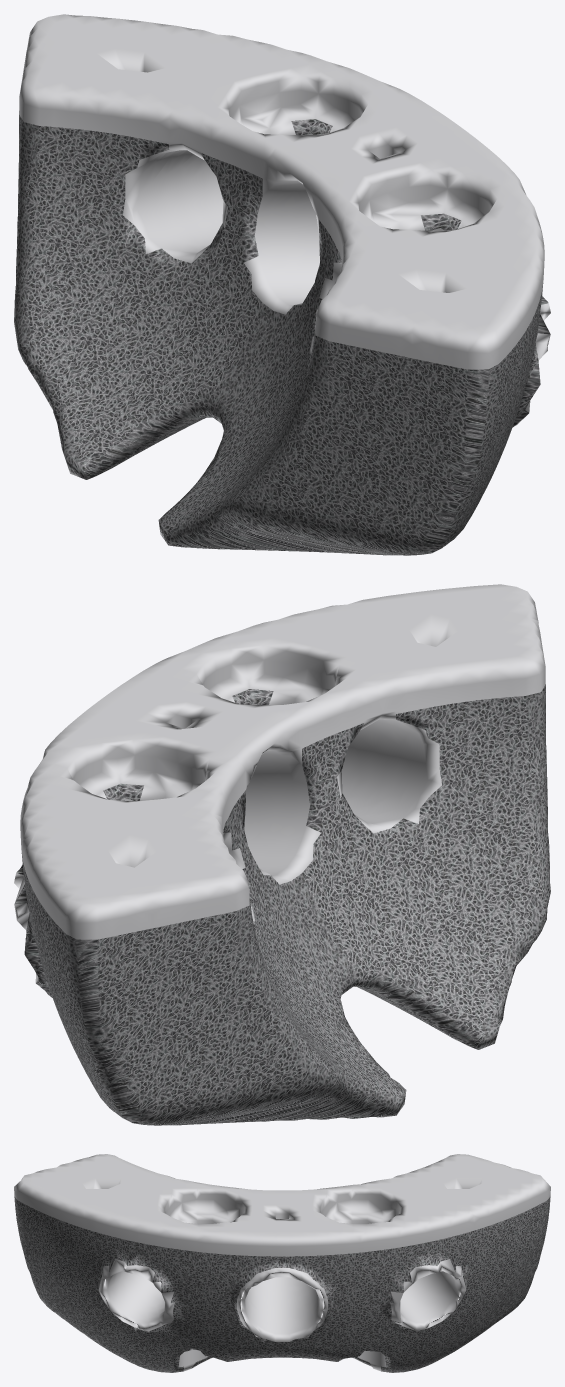
The model's file is augment-3dtf.lod1.glb.
3 renders of one model, top to bottom at view 1: azimuth 30°, elevation 25°; view 2: azimuth 150°, elevation 25°; view 3: azimuth 270°, elevation 25°, orthographic. The views are drawn at different scales.
Parts seen in each view (by area): view 1: augment; view 2: augment; view 3: augment.
Boxes of the visible parts, x1,y1,x2,y2 form: augment: [14, 14, 550, 555]; augment: [14, 584, 550, 1125]; augment: [14, 1154, 550, 1372].
Bounding box in the file's own units: 0.0312 × 0.025 × 0.0666.
2 materials, 1 textured.
